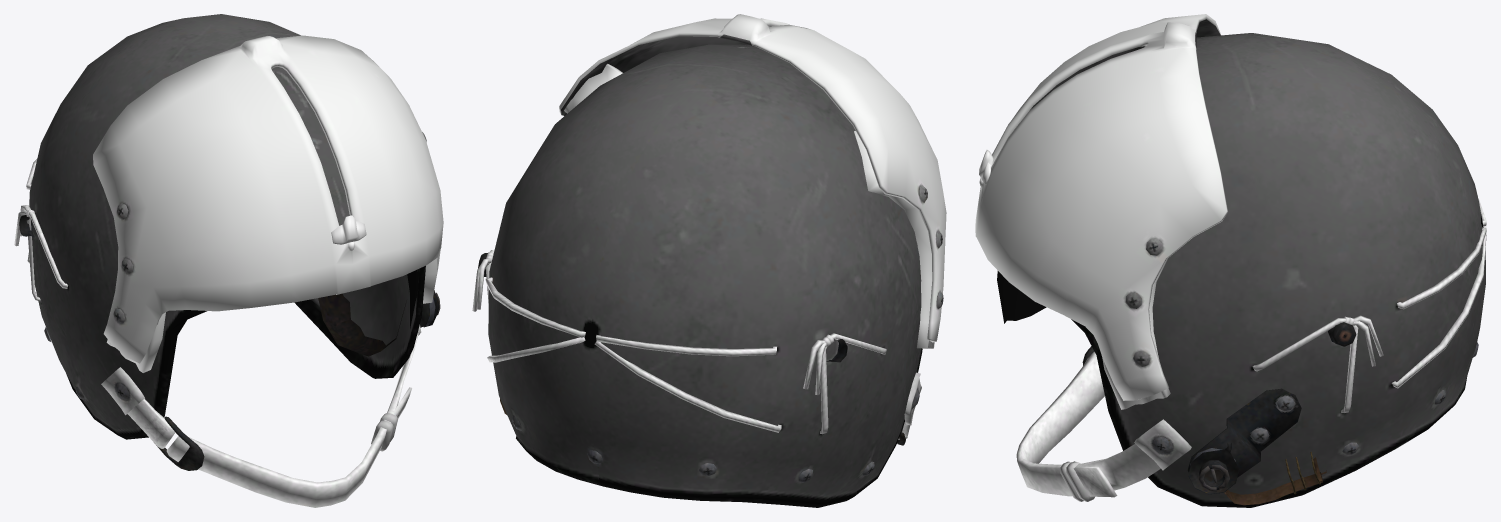
File: SurvivorMale_Head_Helmet_AviatorRussian_LOD0.glb
The picture shows the model from 3 angles, left to right: view 1: azimuth 30°, elevation 25°; view 2: azimuth 150°, elevation 25°; view 3: azimuth 270°, elevation 25°; orthographic projection. The views are drawn at different scales.
Parts seen in each view (by area): view 1: Hoodie; view 2: Hoodie; view 3: Hoodie.
Boxes of the visible parts, x1=… form: Hoodie: x1=14, y1=14, x2=443, y2=507; Hoodie: x1=472, y1=14, x2=946, y2=507; Hoodie: x1=975, y1=14, x2=1486, y2=507.
Bounding box in the file's own units: 0.221 × 0.2481 × 0.254.
1 material, 1 textured.
